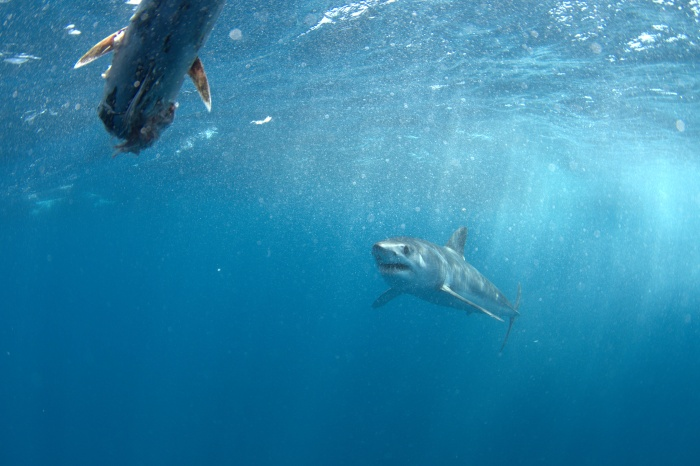Mako: (357, 223, 536, 361)
